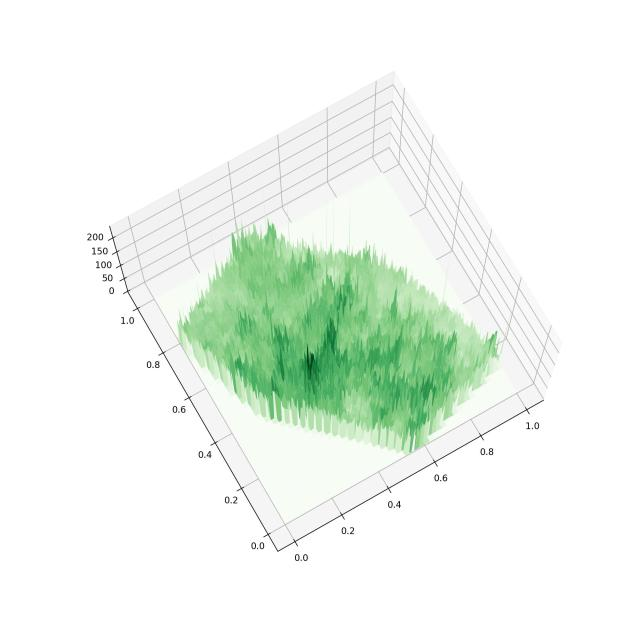fir: (38, 33, 594, 606)
